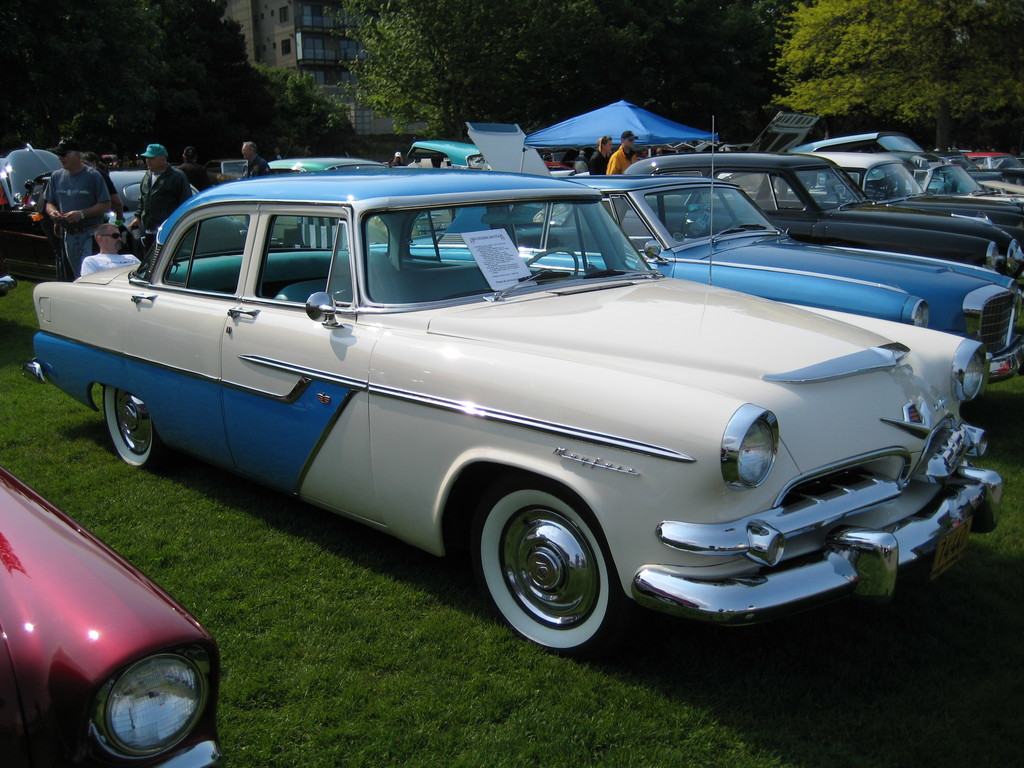Car: (369, 110, 1023, 423), (0, 467, 224, 767), (553, 151, 1019, 284), (900, 158, 1018, 225)
